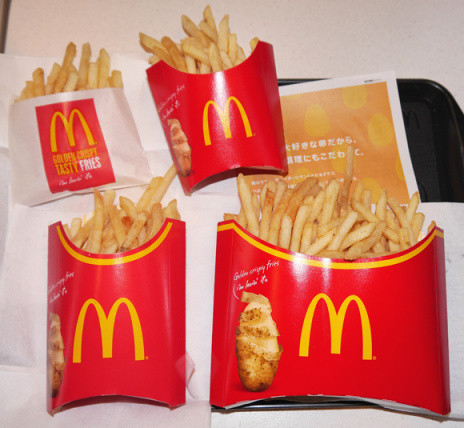mcdonalds: (293, 290, 387, 369), (62, 294, 150, 370), (200, 92, 255, 145), (43, 107, 99, 156)
